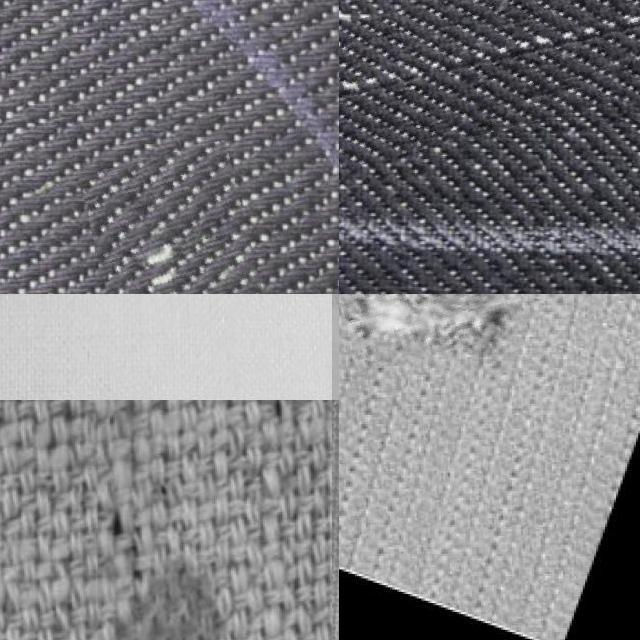Thread_other: (339, 0, 640, 132), (90, 146, 266, 294)
seam: (339, 294, 523, 362)
